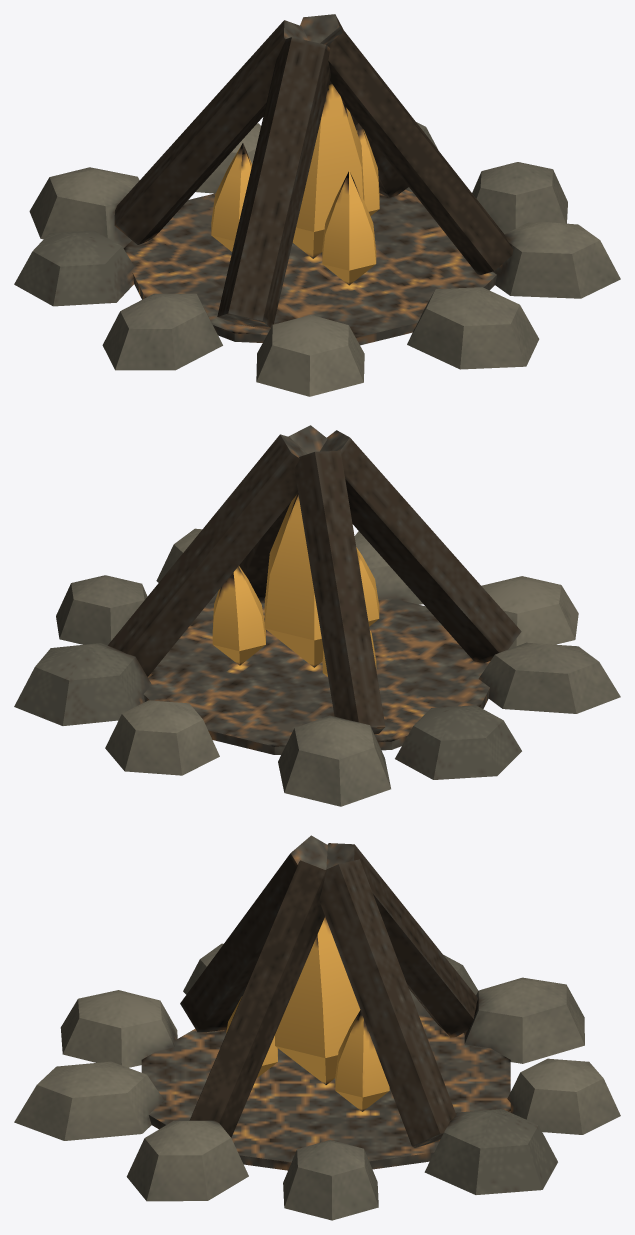
File: Campfire_01.obj
3 views of the same model, one above another, from view 1: azimuth 30°, elevation 25°; view 2: azimuth 150°, elevation 25°; view 3: azimuth 270°, elevation 25° (orthographic).
Visible parts, largest first — view 1: Campfire_01; view 2: Campfire_01; view 3: Campfire_01.
Part boxes in pixels (x1,y1,x2,y2): Campfire_01: [14, 14, 620, 396]; Campfire_01: [14, 425, 620, 806]; Campfire_01: [14, 835, 620, 1220].
Size of the model in its own units: 0.9436 by 0.4276 by 0.9624.
1 material, 1 textured.
